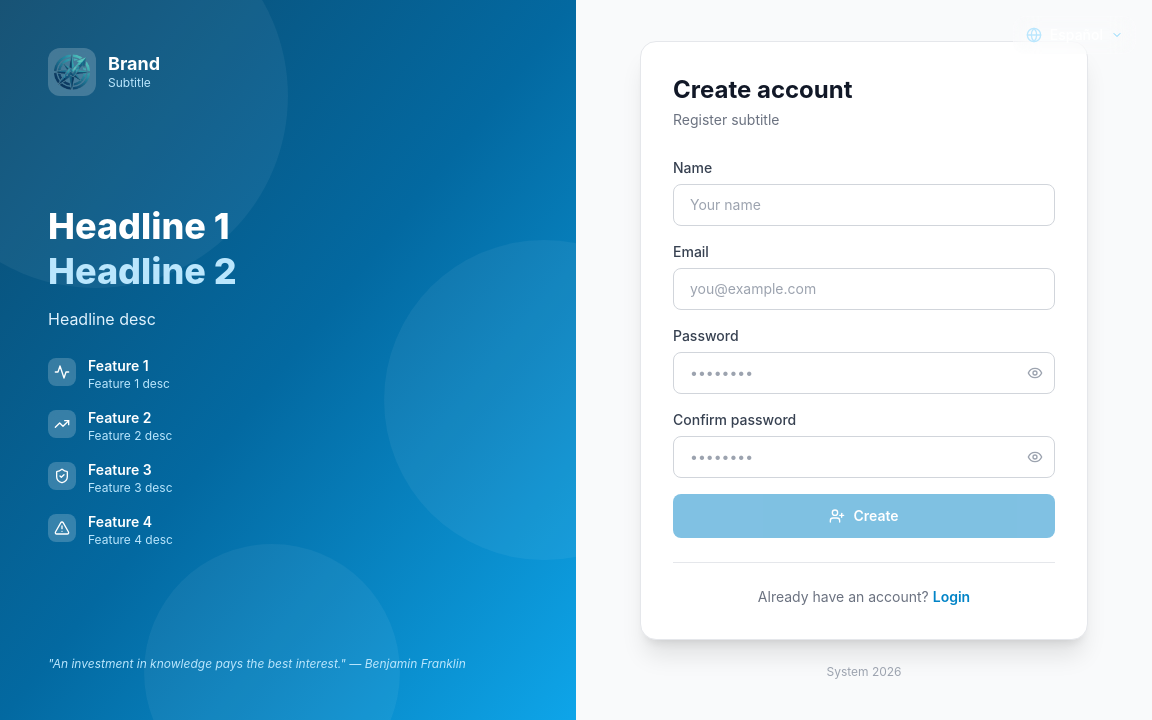
Test: RegisterPage › shows error when passwords do not match
Type "Alice" into the field labelled "Name" at (864, 204), box [673,184,1055,226]
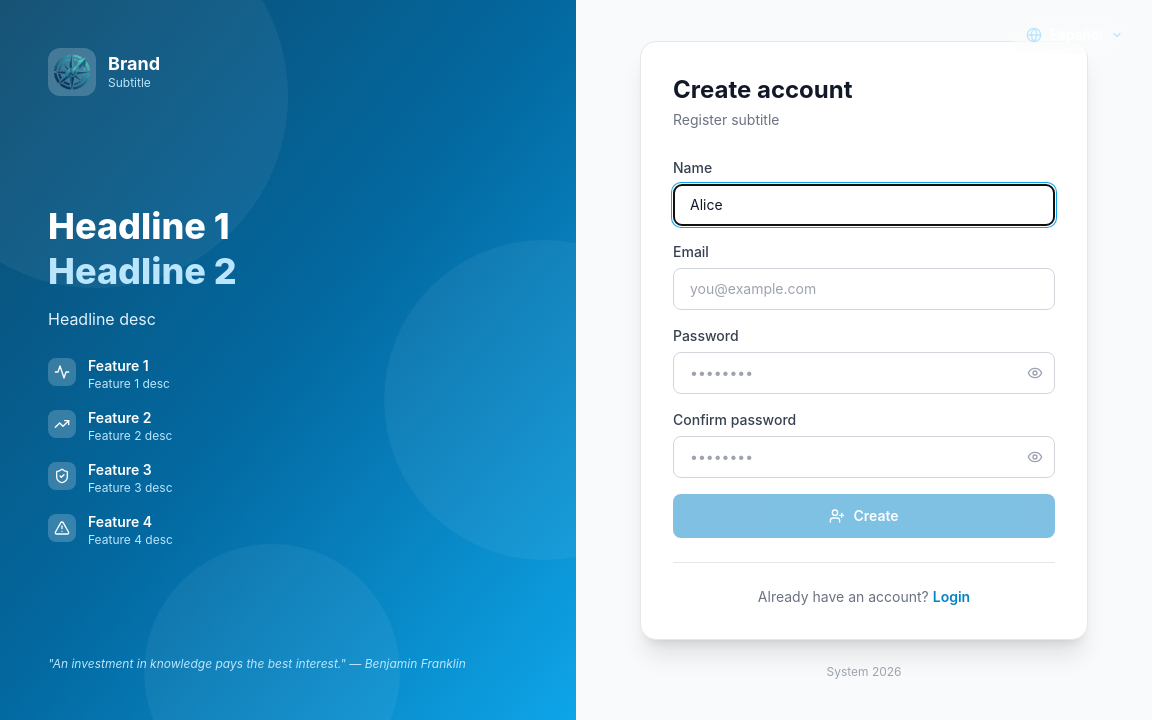
Type "alice@example.com" into the field labelled "Email" at (864, 288), box [673,268,1055,310]
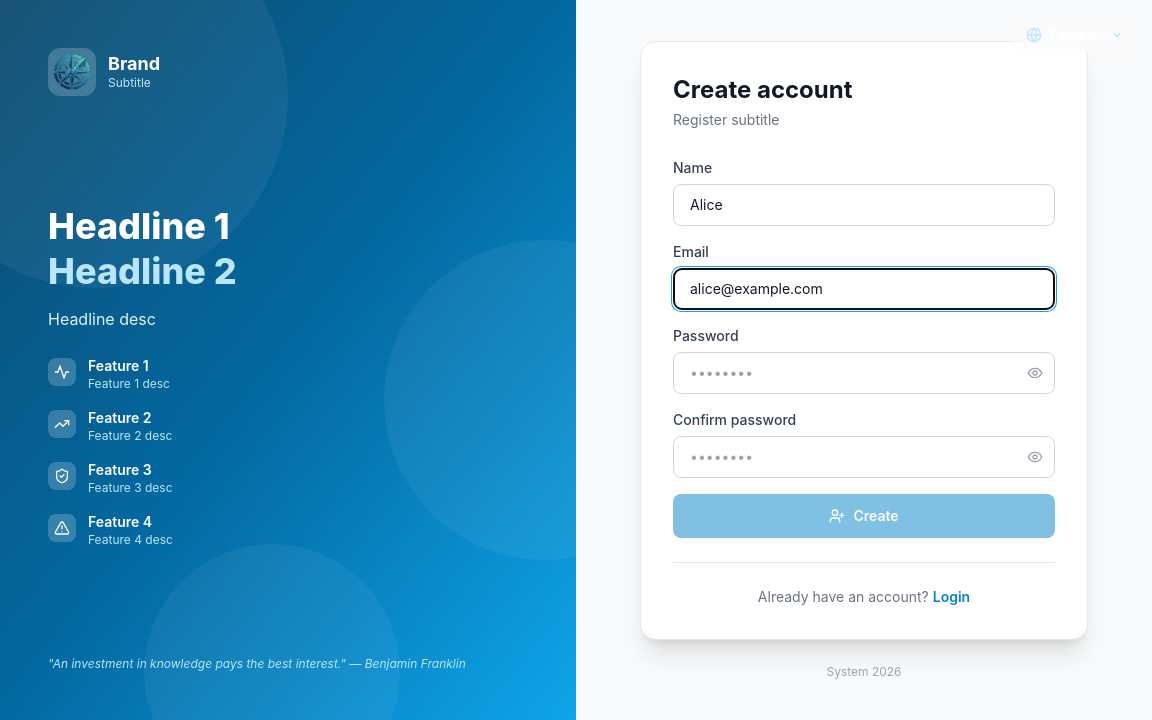
Type "Password1!" into the password field labelled "Password" at (864, 372), box [673,352,1055,394]
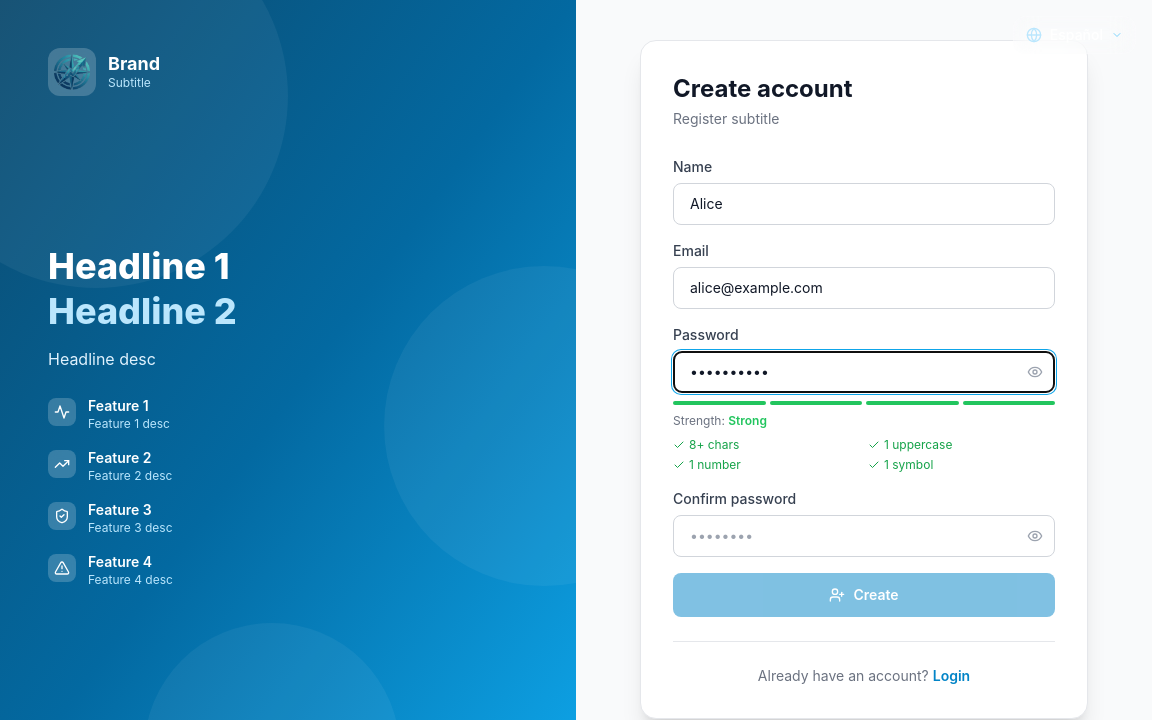
Type "Password2!" into the password field labelled "Confirm password" at (864, 536), box [673,515,1055,557]
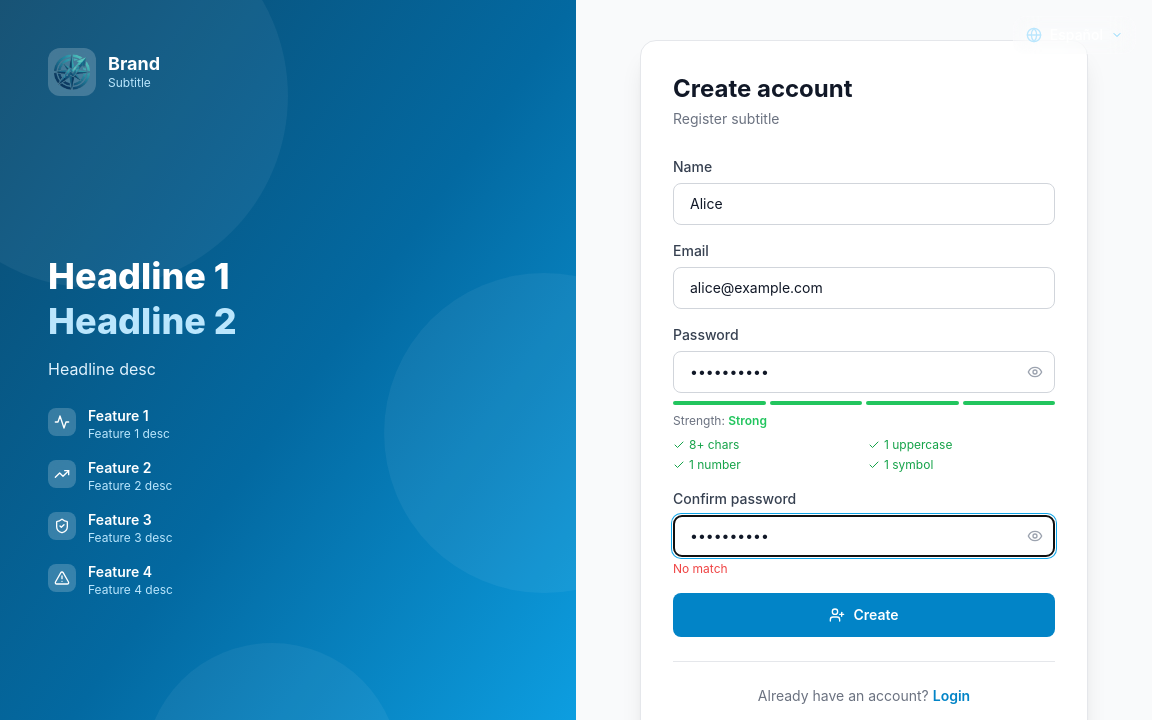
Click the button "Create" at (864, 615), box [673,593,1055,637]
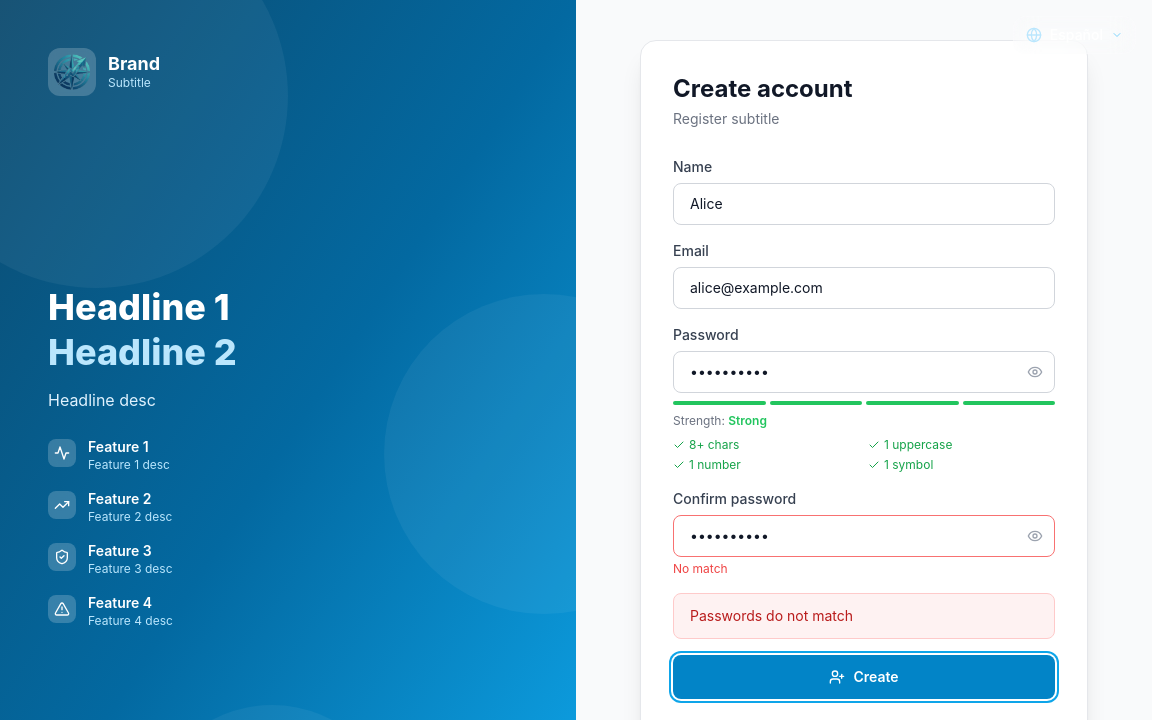
Result: the text "Passwords do not match" is shown at [690,607,853,624]
